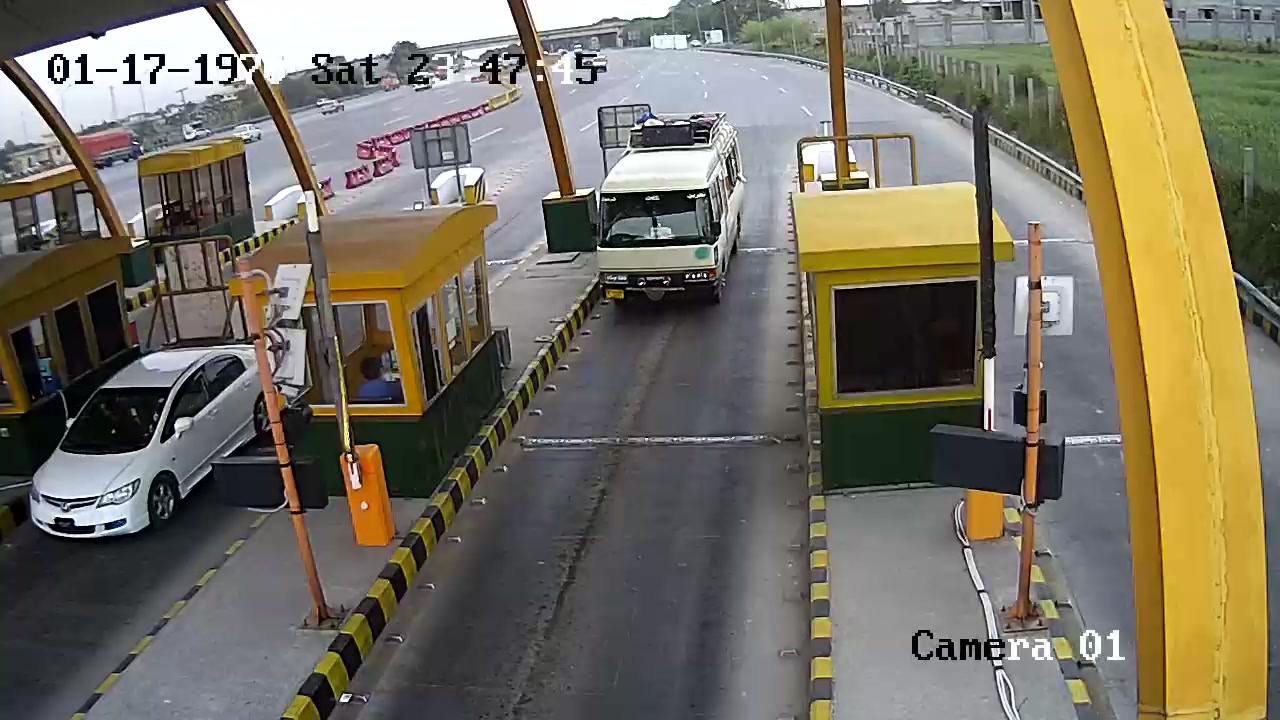F3: (593, 101, 749, 311)
